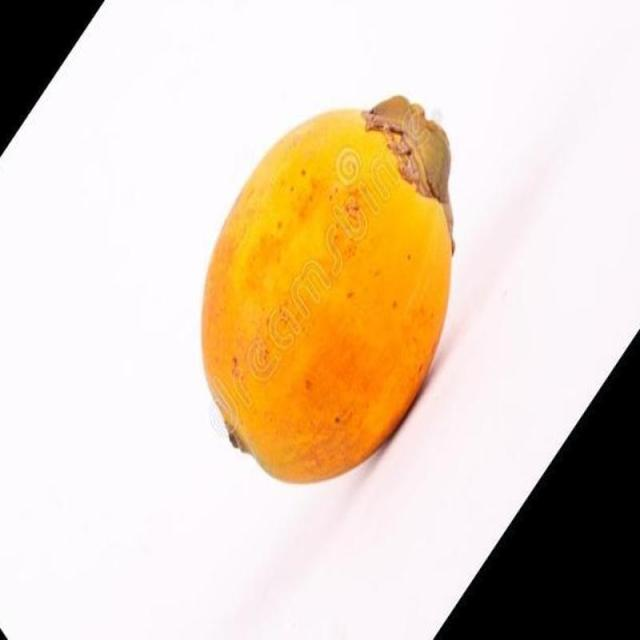good: (198, 96, 454, 488)
